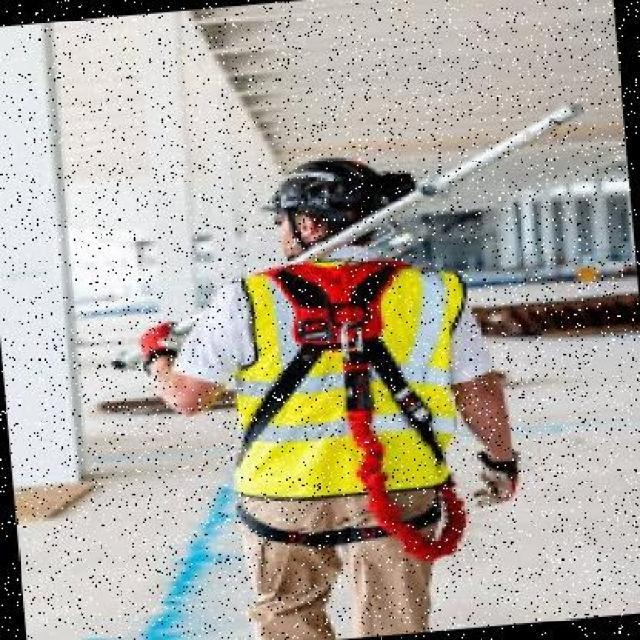Arnes_seguridad: (210, 235, 503, 583)
